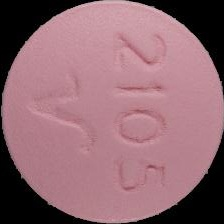0463-6354: (0, 0, 224, 224)
